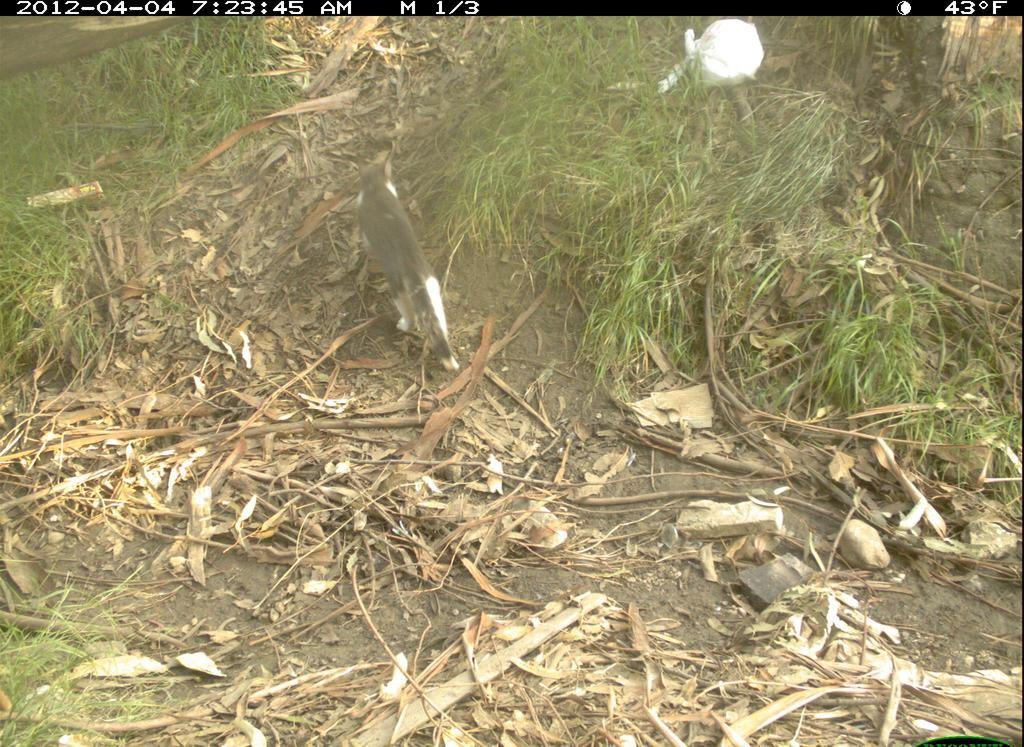cat: (336, 123, 486, 408)
